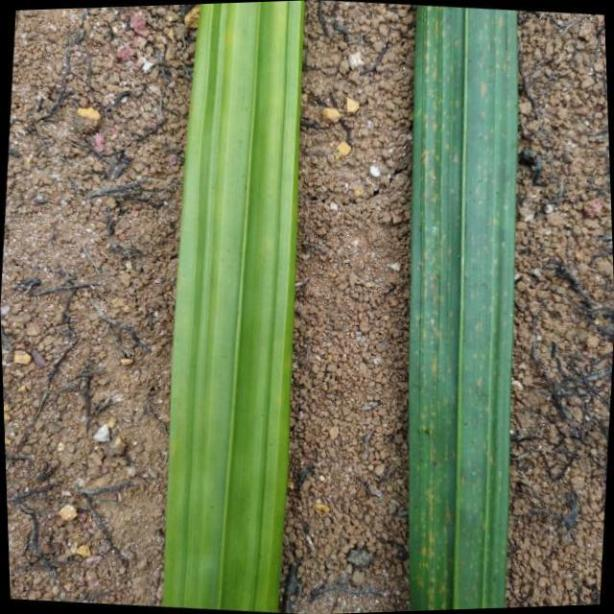nitrogen: (153, 0, 307, 614), (408, 0, 521, 614)
